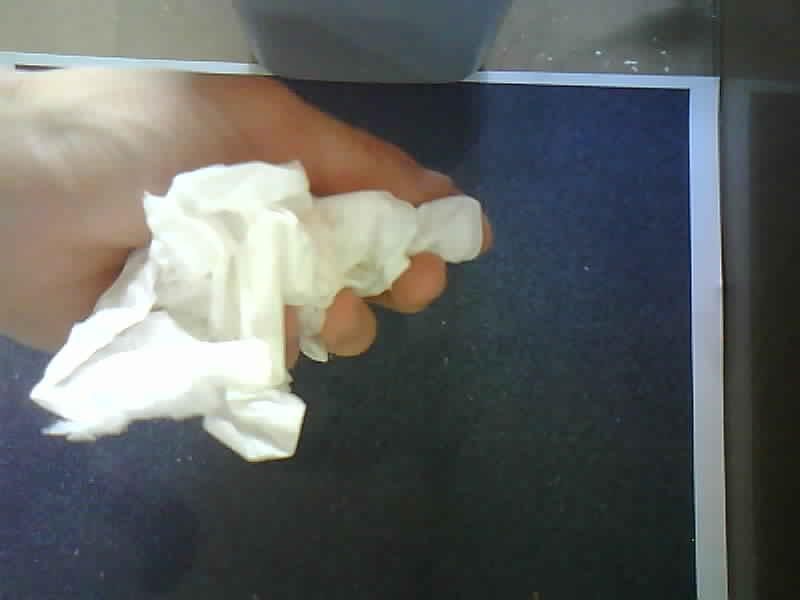paper: (30, 160, 482, 460)
